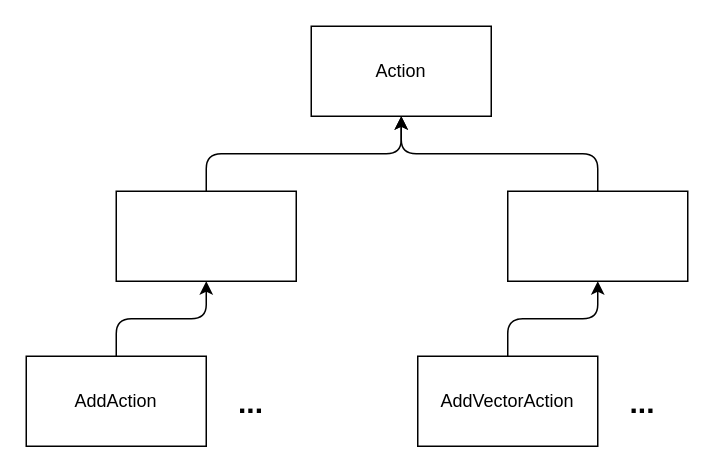
The diagram is 714 pixels wide and 473 high, and some of its shapes have lost their labels. Each missing label, with the centre of its shape:
"ParameterAction" belongs at pixel 597 235.
"SimpleAction" belongs at pixel 205 235.
